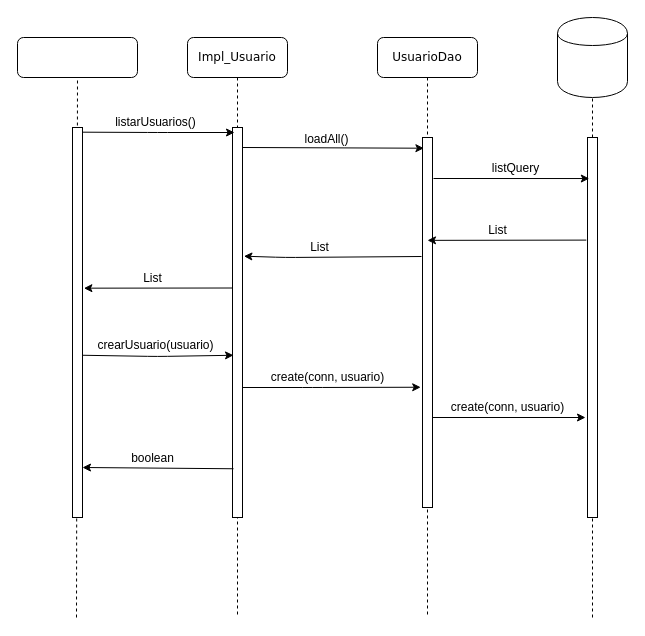
The diagram is 645 pixels wide and 636 high, and some of its shapes have lost their labels. Each missing label, with the centre of its shape:
<<interface>> IUsuario: the point at 77,57
orderFood: the point at 592,57
